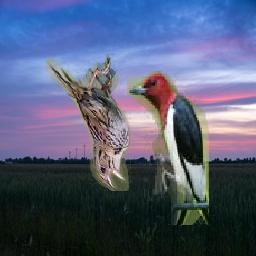Sparrow: (47, 27, 132, 191)
Woodpecker: (127, 71, 209, 225)
